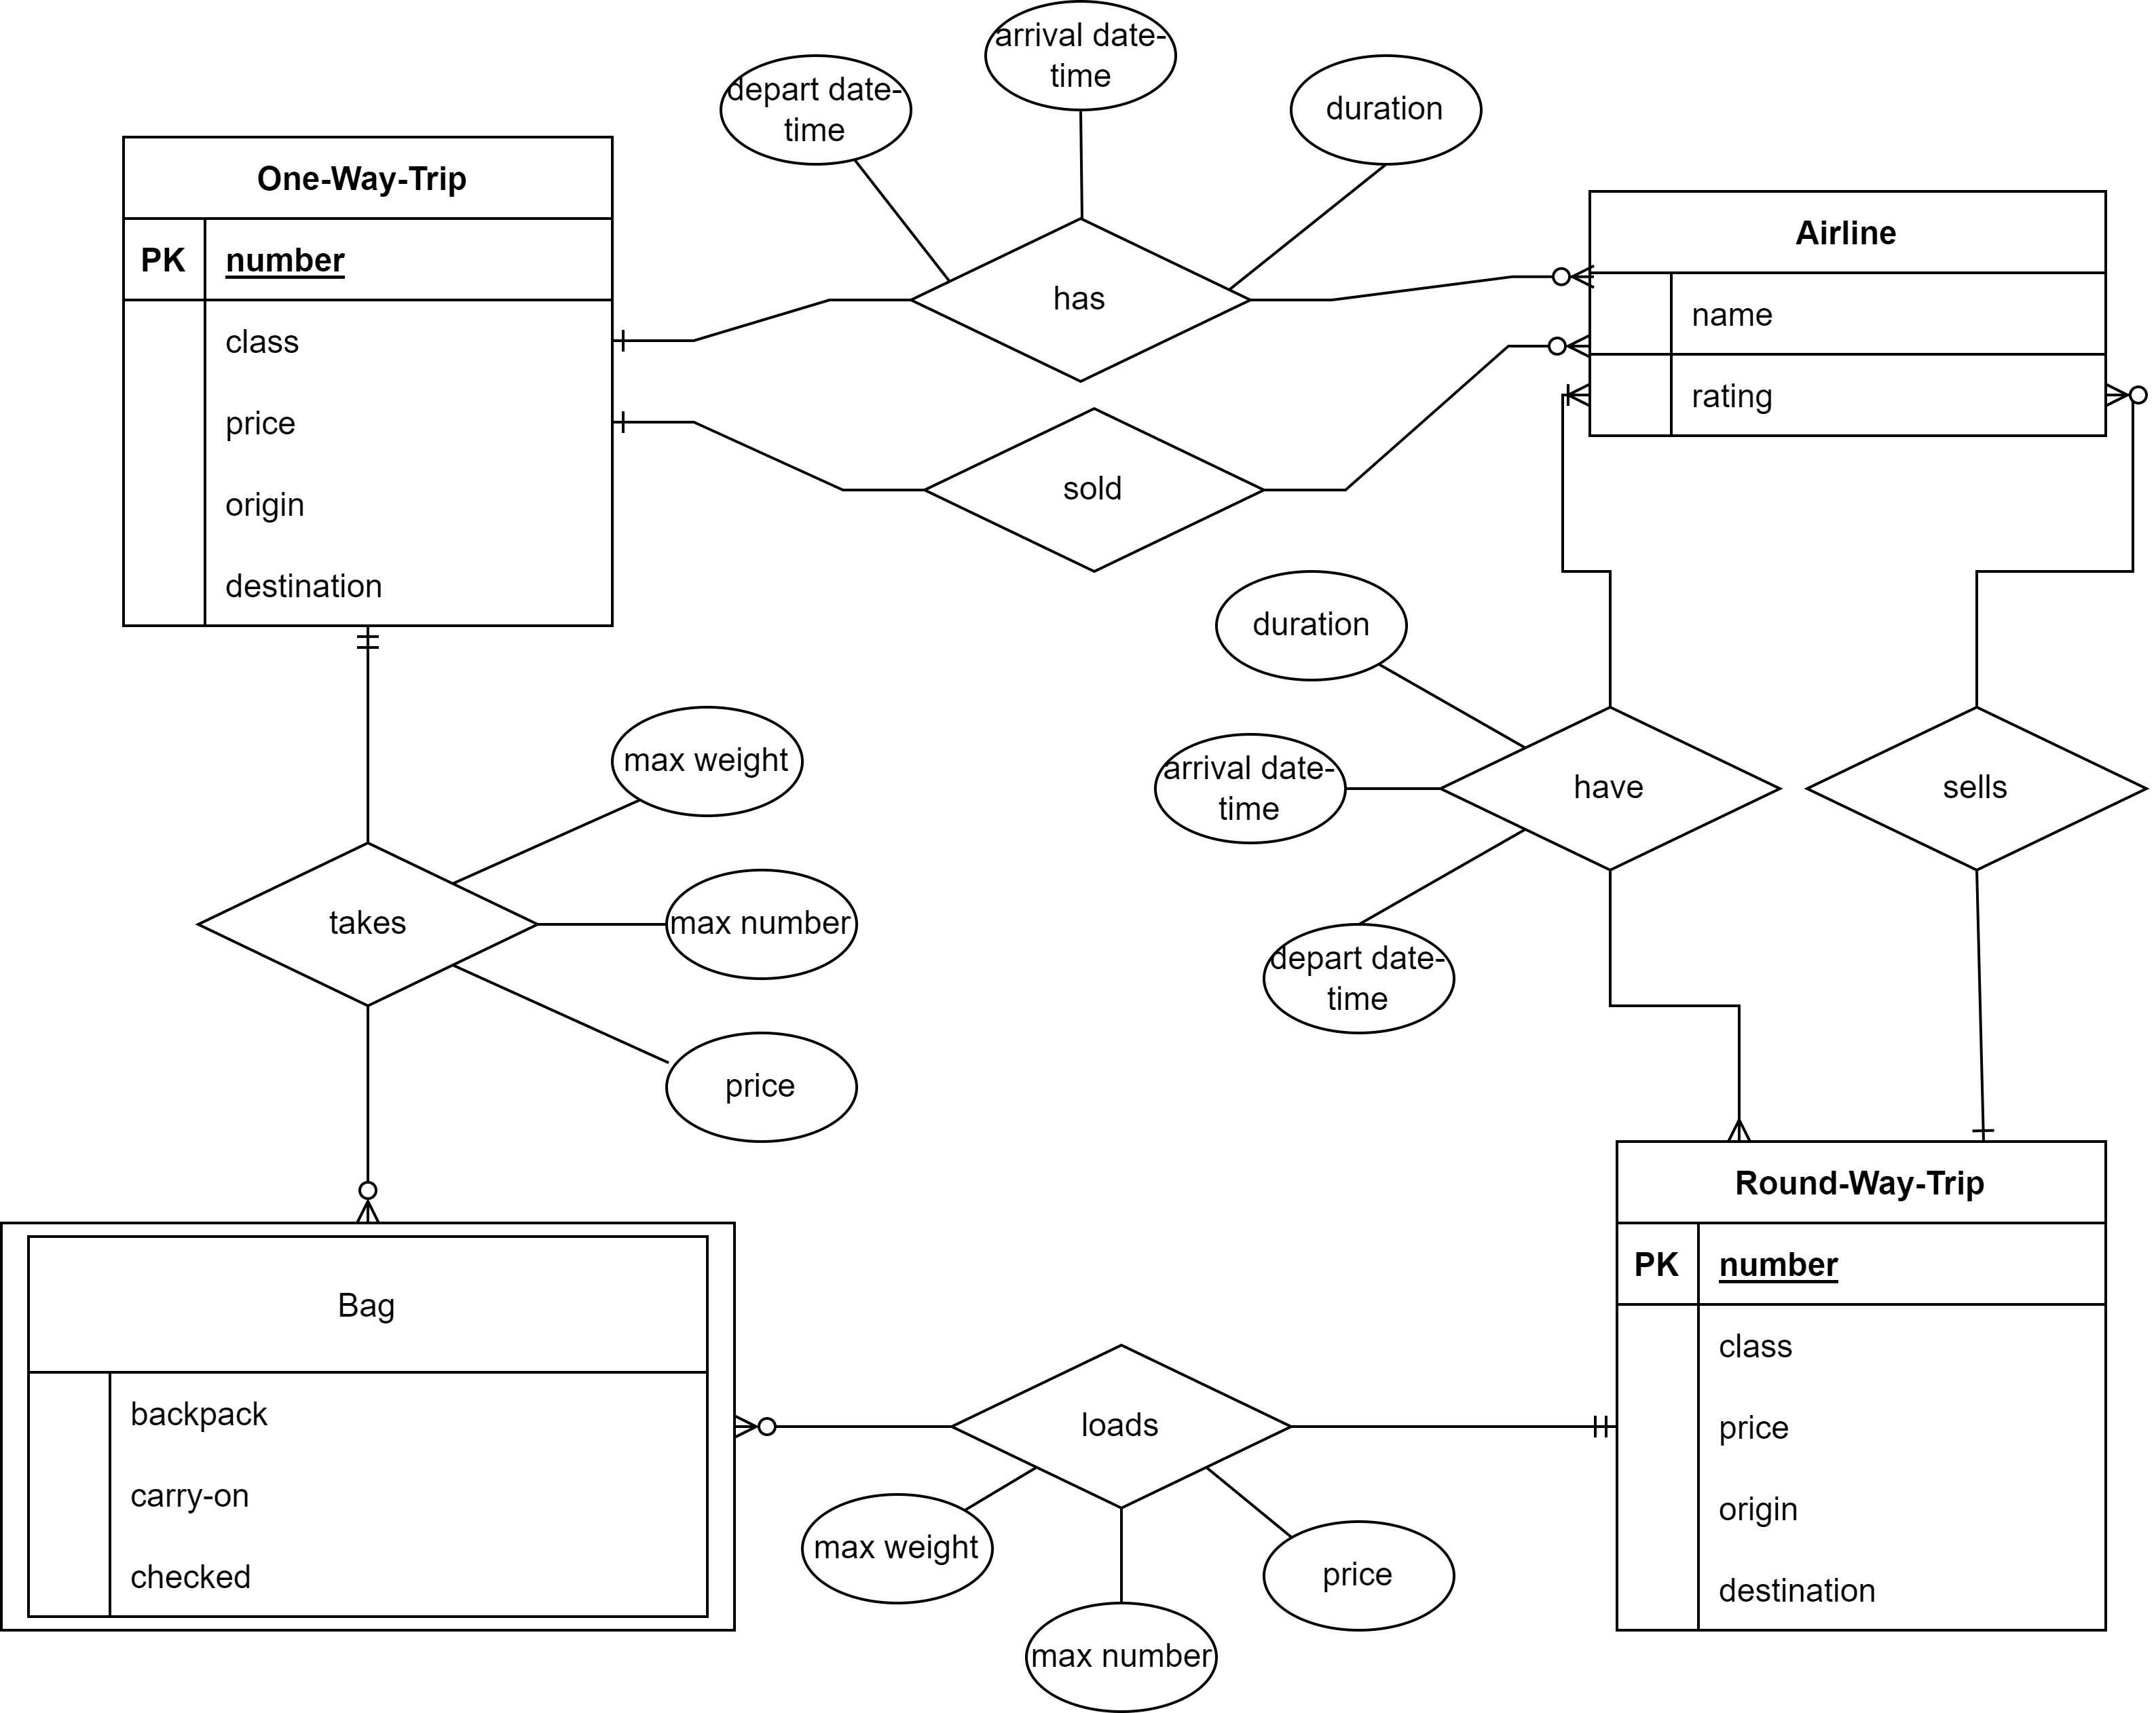entity: (121, 136, 614, 628), (1615, 1137, 2109, 1629), (1587, 187, 2103, 437)
many: (731, 1389, 791, 1459), (2103, 367, 2156, 429), (332, 1181, 404, 1225), (1536, 324, 1596, 371), (1696, 1108, 1776, 1141), (1547, 374, 1596, 427), (1545, 248, 1596, 296)
one: (343, 623, 402, 670), (1570, 1396, 1617, 1447), (609, 315, 653, 362), (614, 402, 646, 448), (1962, 1111, 2004, 1139)
rel: (920, 406, 1267, 572), (1447, 700, 1787, 866), (903, 222, 1256, 378), (1806, 709, 2147, 870), (196, 845, 535, 1004), (959, 1349, 1288, 1508)
rel_attr: (717, 47, 917, 173), (796, 1491, 997, 1612), (667, 1025, 863, 1148), (1214, 567, 1410, 688), (1020, 1596, 1220, 1713), (661, 863, 859, 980), (1256, 1519, 1459, 1633), (1262, 917, 1461, 1032), (1286, 54, 1493, 164), (1153, 731, 1349, 845), (609, 705, 807, 817), (983, 3, 1174, 107)
weak_entity: (0, 1220, 740, 1627)
